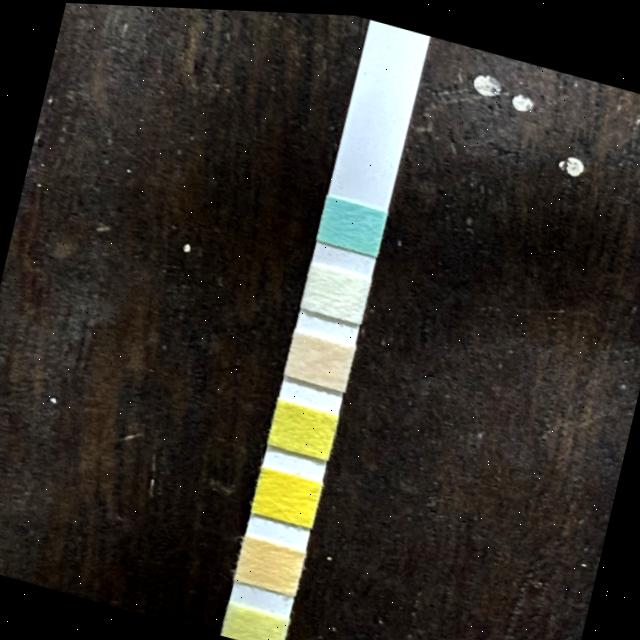Bilirubin: (302, 265, 368, 321)
Blood: (253, 470, 319, 526)
Glucose: (319, 196, 385, 252)
Ketone: (286, 331, 352, 388)
Protein: (224, 605, 287, 640)
SpGravity: (269, 399, 335, 456)
pH: (237, 536, 303, 593)
